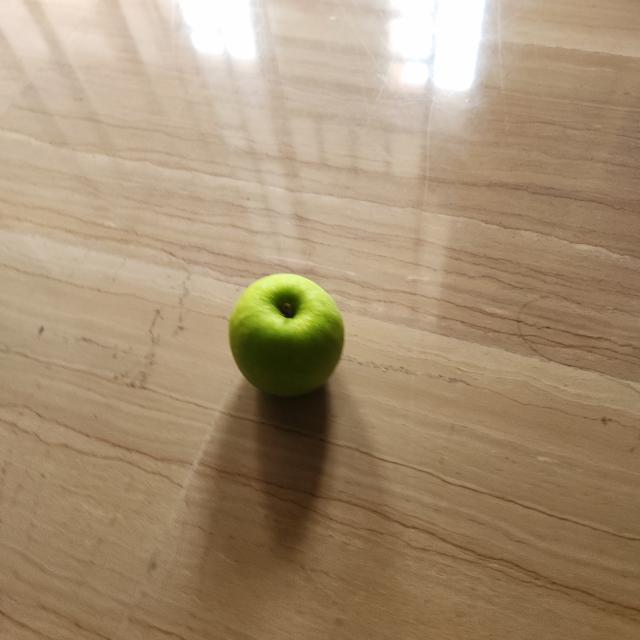apple: (229, 266, 349, 410)
